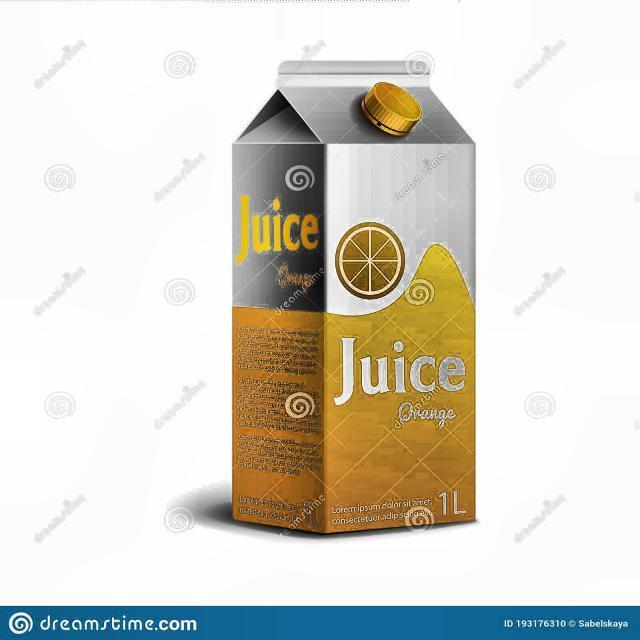cardboard: (230, 63, 477, 534)
